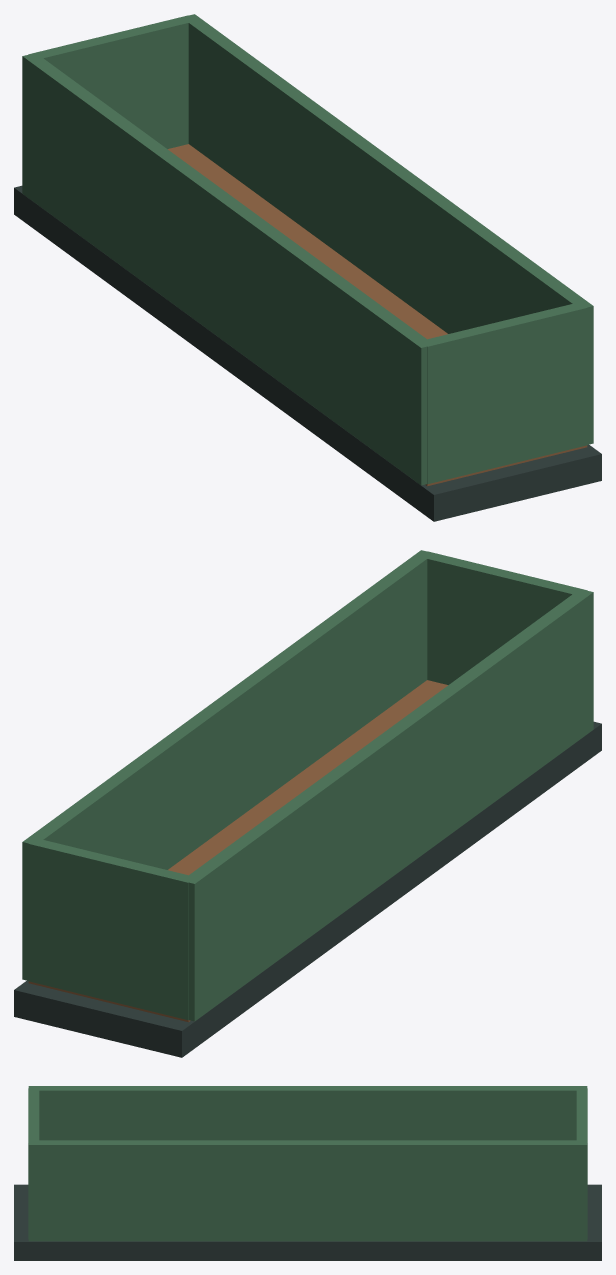
The model's file is fjord-freight-wagon_lod1.glb.
The picture shows the model from 3 angles, top to bottom: view 1: azimuth 30°, elevation 25°; view 2: azimuth 150°, elevation 25°; view 3: azimuth 270°, elevation 25°; orthographic projection. The views are drawn at different scales.
Parts seen in each view (by area): view 1: RF_Freight_Side, RF_Freight_Side.001, RF_Freight_End, RF_Freight_Chassis, RF_Freight_End.001, RF_Freight_Floor; view 2: RF_Freight_Side, RF_Freight_Side.001, RF_Freight_End.001, RF_Freight_Chassis, RF_Freight_End, RF_Freight_Floor; view 3: RF_Freight_Side.001, RF_Freight_Side, RF_Freight_Chassis, RF_Freight_End, RF_Freight_End.001.
Boxes of the visible parts, x1,y1,x2,y2 form: RF_Freight_Side: (22,53,434,485); RF_Freight_Side.001: (182,14,593,444); RF_Freight_End: (420,303,587,484); RF_Freight_Chassis: (14,185,601,521); RF_Freight_End.001: (28,15,194,148); RF_Freight_Floor: (168,144,587,486); RF_Freight_Side: (181,589,593,1021); RF_Freight_Side.001: (22,550,433,980); RF_Freight_End.001: (28,838,195,1020); RF_Freight_Chassis: (14,721,601,1057); RF_Freight_End: (427,551,587,684); RF_Freight_Floor: (28,680,447,1022); RF_Freight_Side.001: (28,1140,587,1241); RF_Freight_Side: (28,1086,587,1140); RF_Freight_Chassis: (14,1184,601,1260); RF_Freight_End: (28,1088,39,1238); RF_Freight_End.001: (576,1088,587,1238).
Size of the model in its own units: 2.82 by 2.6 by 11.9.
